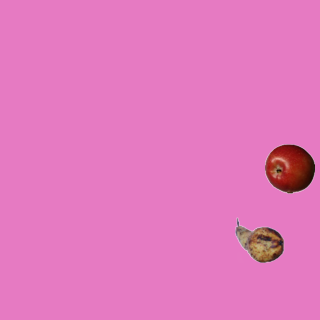Apple Braeburn: (264, 143, 314, 193)
Pear Abate: (234, 215, 284, 265)
